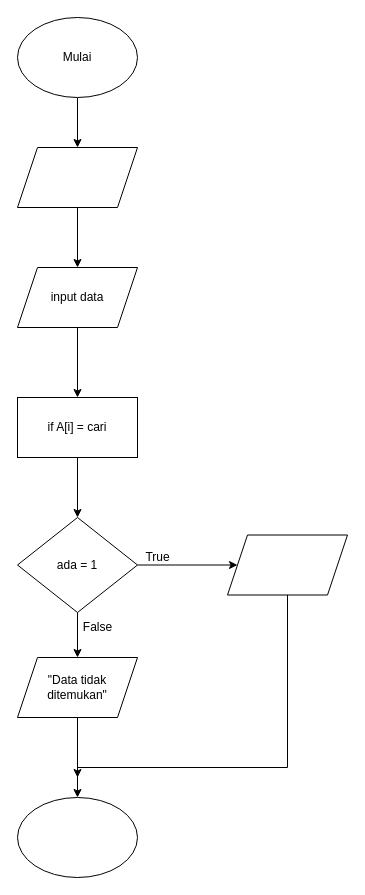
This 365x895 diagram has some shape labels left out. Here are the shapes that lost their labels. From the top down, the centre of each, then its label:
point 77,177: input jumlah data
point 287,564: "Data ditemukan"
point 77,837: Selesai
